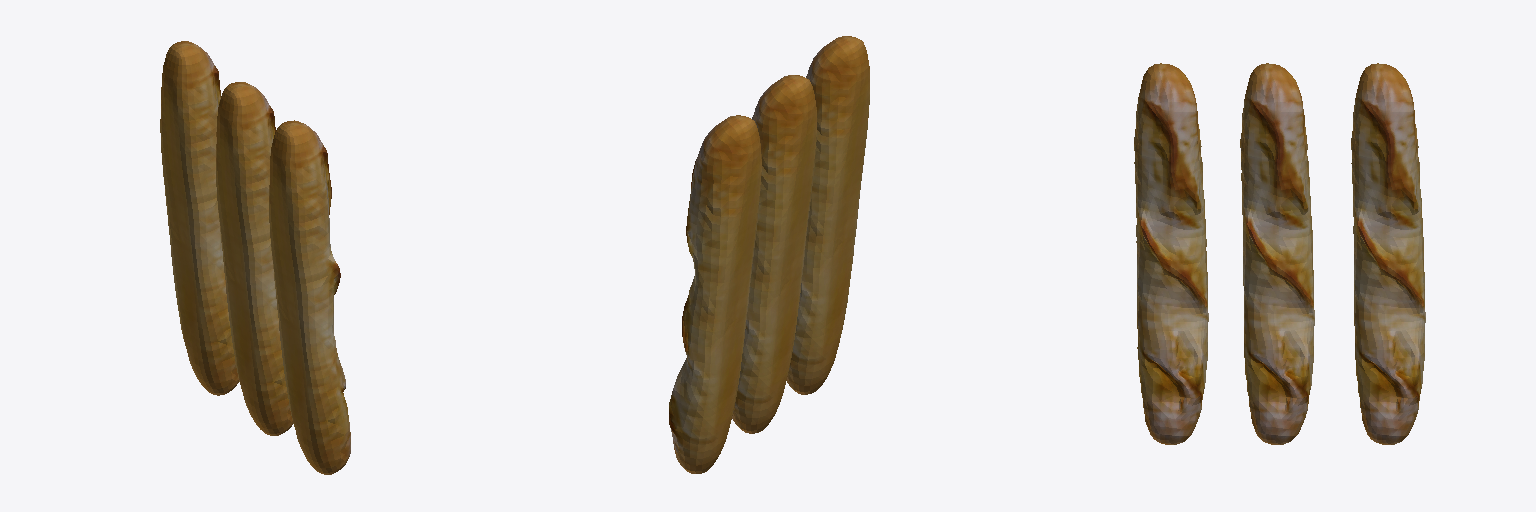
3 renders of one model, left to right at view 1: azimuth 30°, elevation 25°; view 2: azimuth 150°, elevation 25°; view 3: azimuth 270°, elevation 25°, orthographic.
Parts seen in each view (by area): view 1: Baguette; view 2: Baguette; view 3: Baguette.
Part boxes in pixels (x1,y1,x2,y2): Baguette: (160, 41, 350, 474); Baguette: (669, 36, 869, 473); Baguette: (1134, 63, 1425, 444).
Bounding box in the file's own units: 1.57 × 7.09 × 5.2.
Materials: 1 (1 with a texture image).